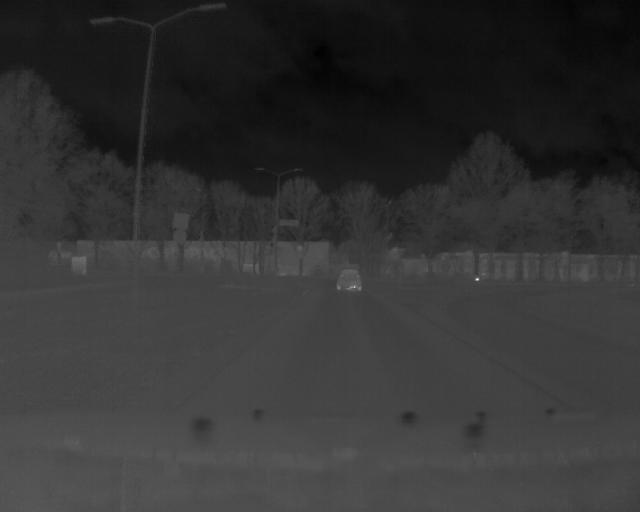car: (332, 265, 365, 296)
